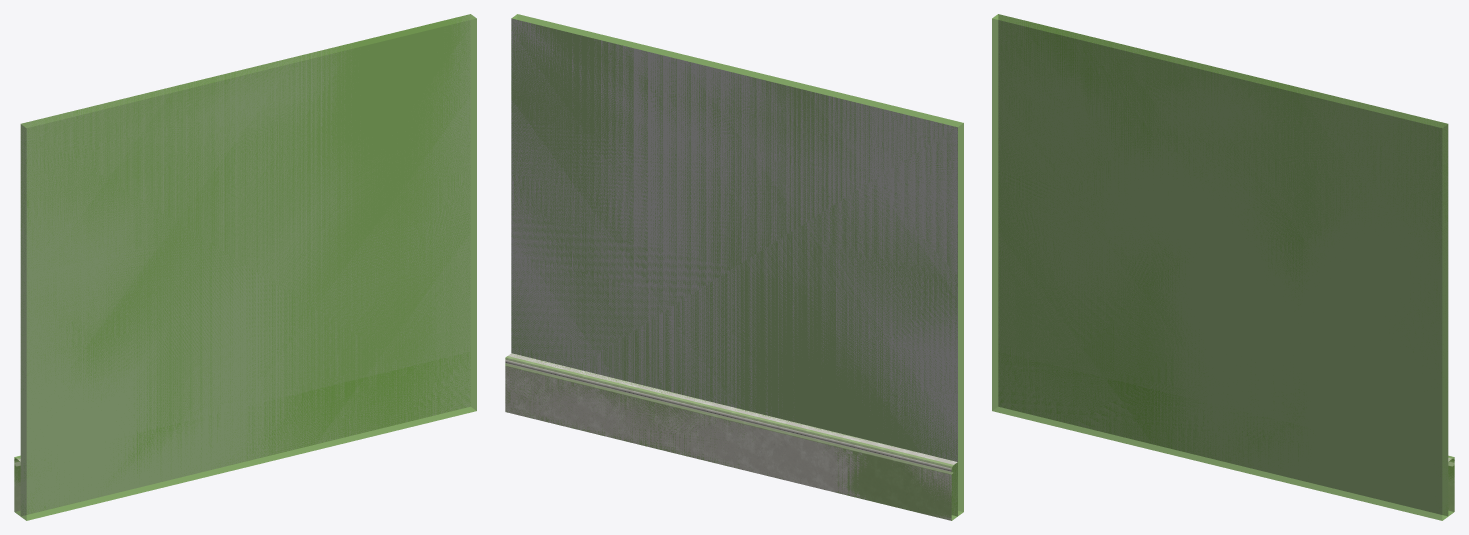
The model's file is F3_md_StreetWall_5x6_01.fbx.
3 views of the same model, side by side, from view 1: azimuth 30°, elevation 25°; view 2: azimuth 150°, elevation 25°; view 3: azimuth 330°, elevation 25° (orthographic).
Parts seen in each view (by area): view 1: F3_md_StreetWall_5x6_01_col_02, F3_md_StreetWall_5x6_01_LOD0, F3_md_StreetWall_5x6_01_col_01; view 2: F3_md_StreetWall_5x6_01_LOD0, F3_md_StreetWall_5x6_01_col_02, F3_md_StreetWall_5x6_01_col_01; view 3: F3_md_StreetWall_5x6_01_col_02, F3_md_StreetWall_5x6_01_LOD0, F3_md_StreetWall_5x6_01_col_01.
Boxes of the visible parts, <box> form: F3_md_StreetWall_5x6_01_col_02: <box>20,14,476,520</box>; F3_md_StreetWall_5x6_01_LOD0: <box>14,14,470,515</box>; F3_md_StreetWall_5x6_01_col_01: <box>14,354,468,516</box>; F3_md_StreetWall_5x6_01_LOD0: <box>505,18,957,520</box>; F3_md_StreetWall_5x6_01_col_02: <box>511,14,963,515</box>; F3_md_StreetWall_5x6_01_col_01: <box>505,353,957,520</box>; F3_md_StreetWall_5x6_01_col_02: <box>992,14,1448,520</box>; F3_md_StreetWall_5x6_01_LOD0: <box>998,14,1454,515</box>; F3_md_StreetWall_5x6_01_col_01: <box>1000,356,1454,516</box>.
Size of what is drawn, in the model's own units: 600 by 500 by 28.72.
